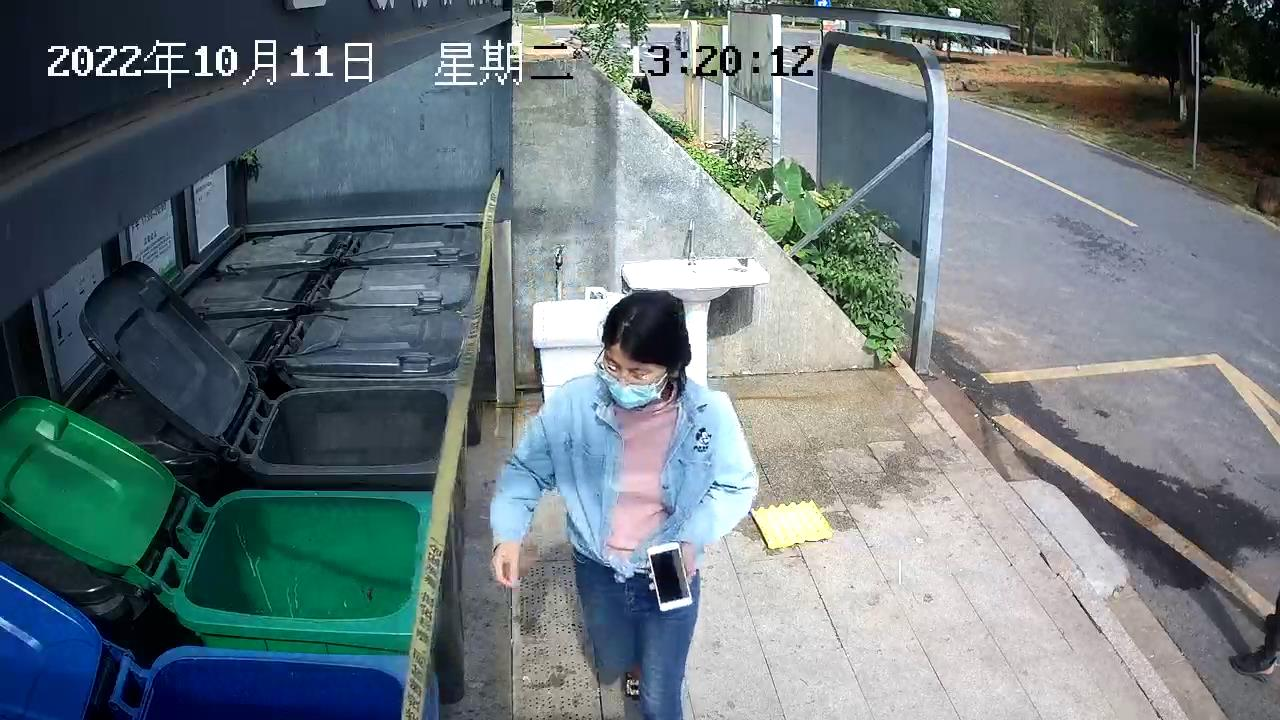worker: (483, 286, 764, 720)
zhizhipin: (747, 497, 841, 551)
